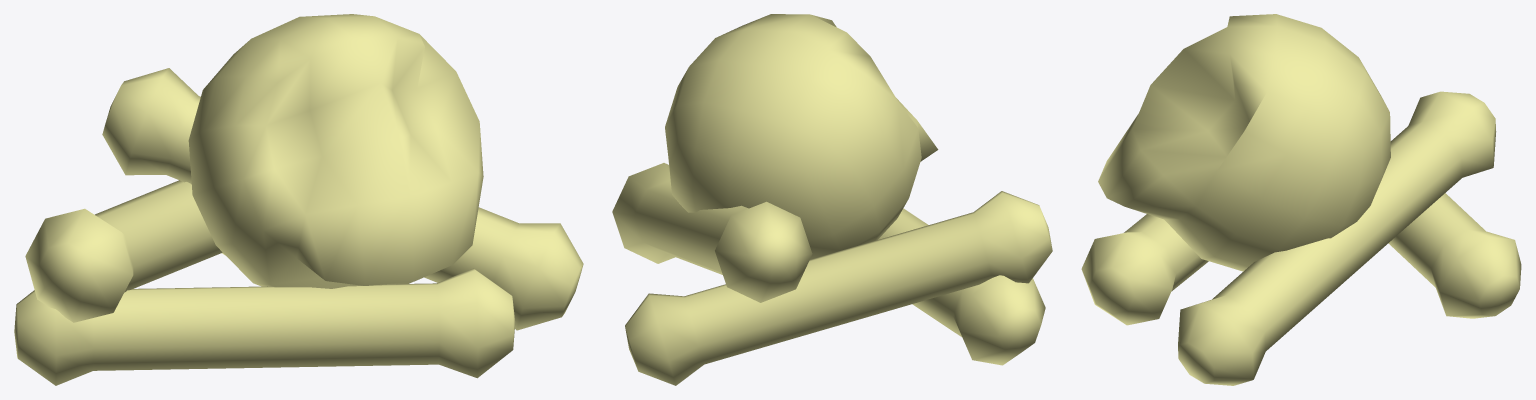
File: SM_bonePile.fbx
The picture shows the model from 3 angles, left to right: view 1: azimuth 30°, elevation 25°; view 2: azimuth 150°, elevation 25°; view 3: azimuth 270°, elevation 25°; orthographic projection. The views are drawn at different scales.
Visible parts, largest first — view 1: bonePile; view 2: bonePile; view 3: bonePile.
Boxes of the visible parts, x1,y1,x2,y2 form: bonePile: (14, 14, 583, 385); bonePile: (612, 14, 1052, 385); bonePile: (1081, 14, 1521, 385).
Bounding box in the file's own units: 169 × 102 × 142.
